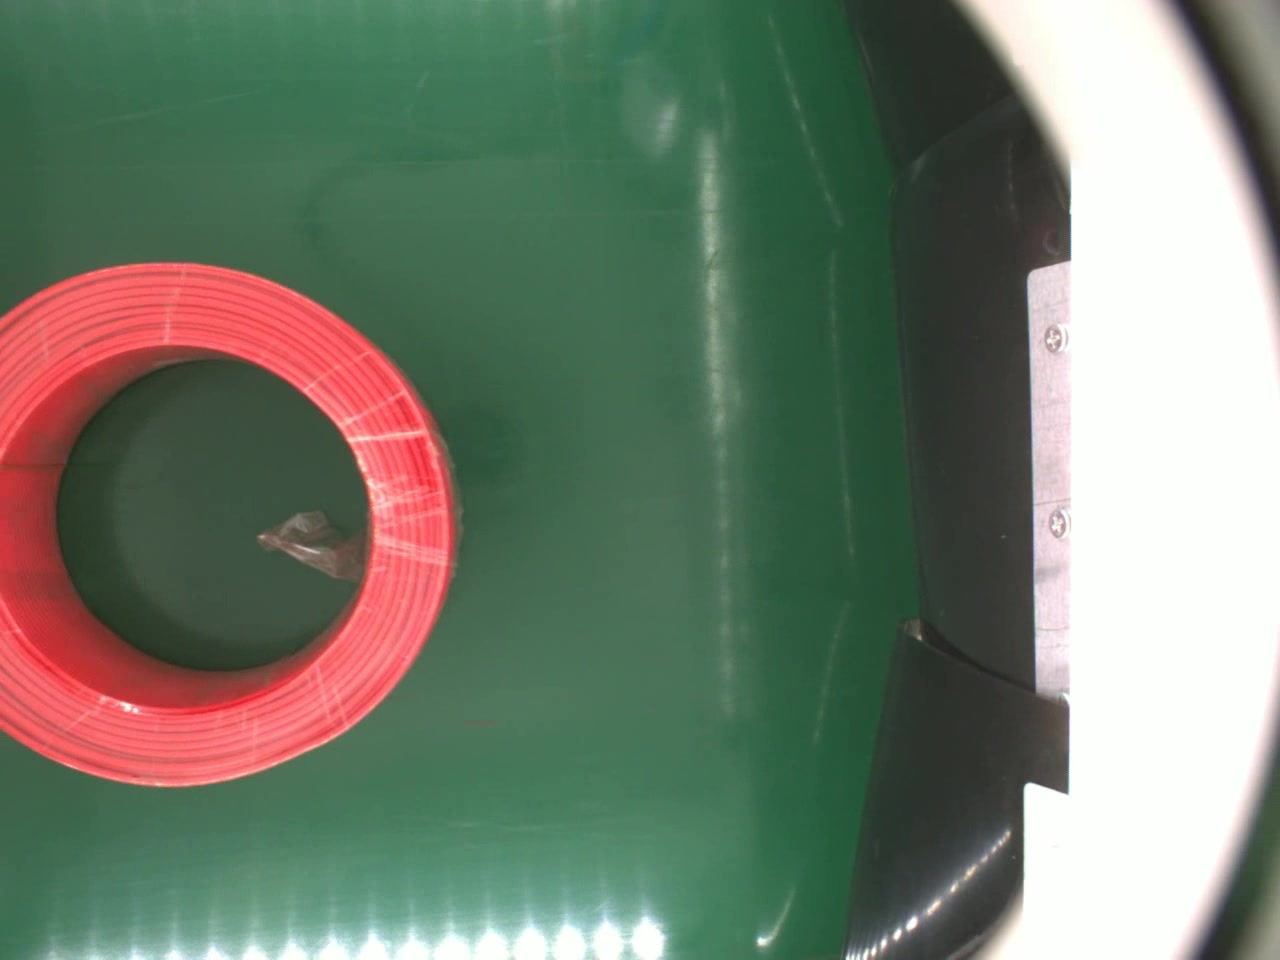red: (0, 253, 466, 789)
